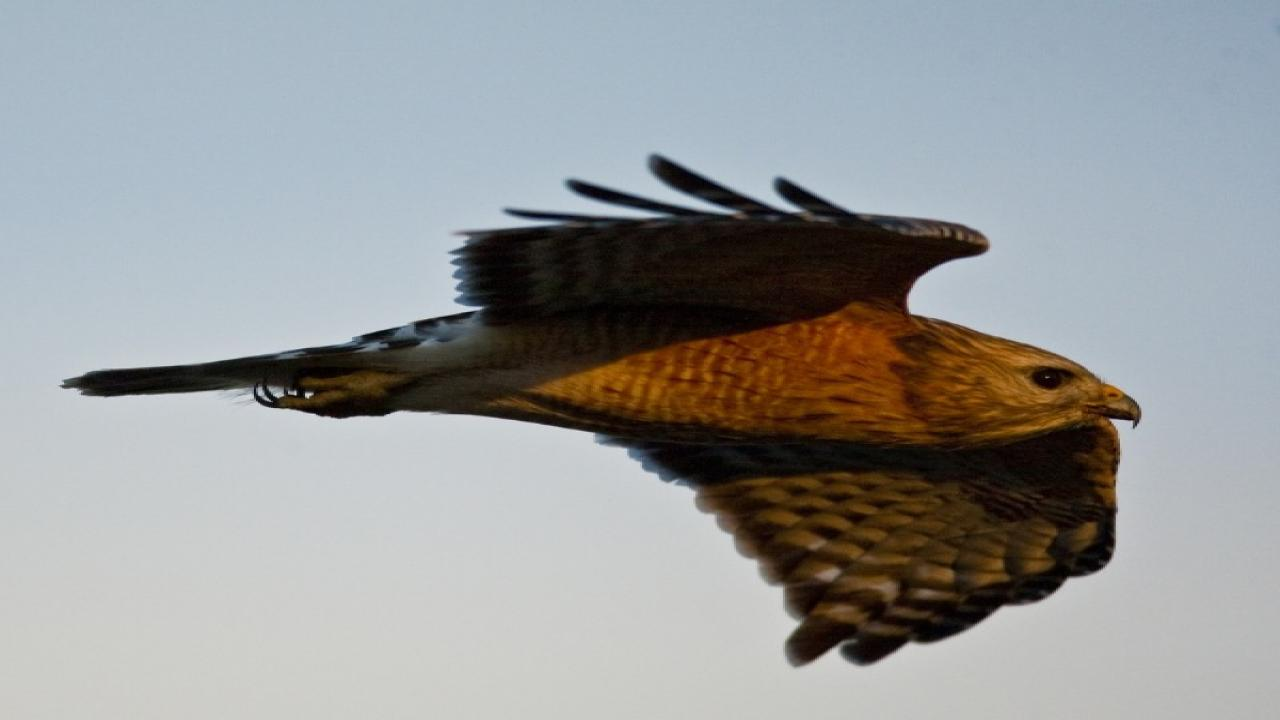Bird: (50, 142, 1155, 682)
